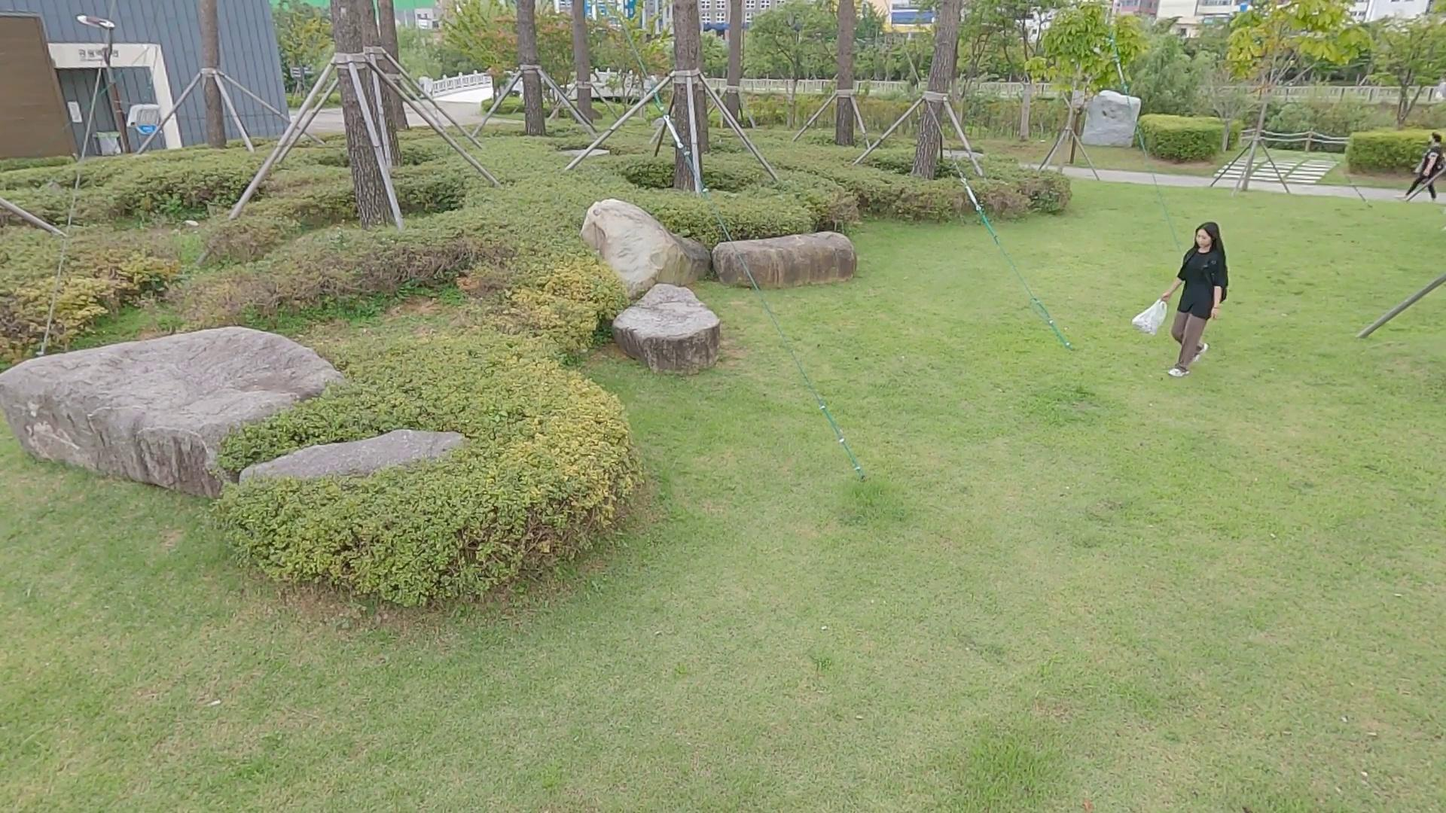person: (1158, 215, 1230, 377)
trash: (1135, 293, 1173, 334)
